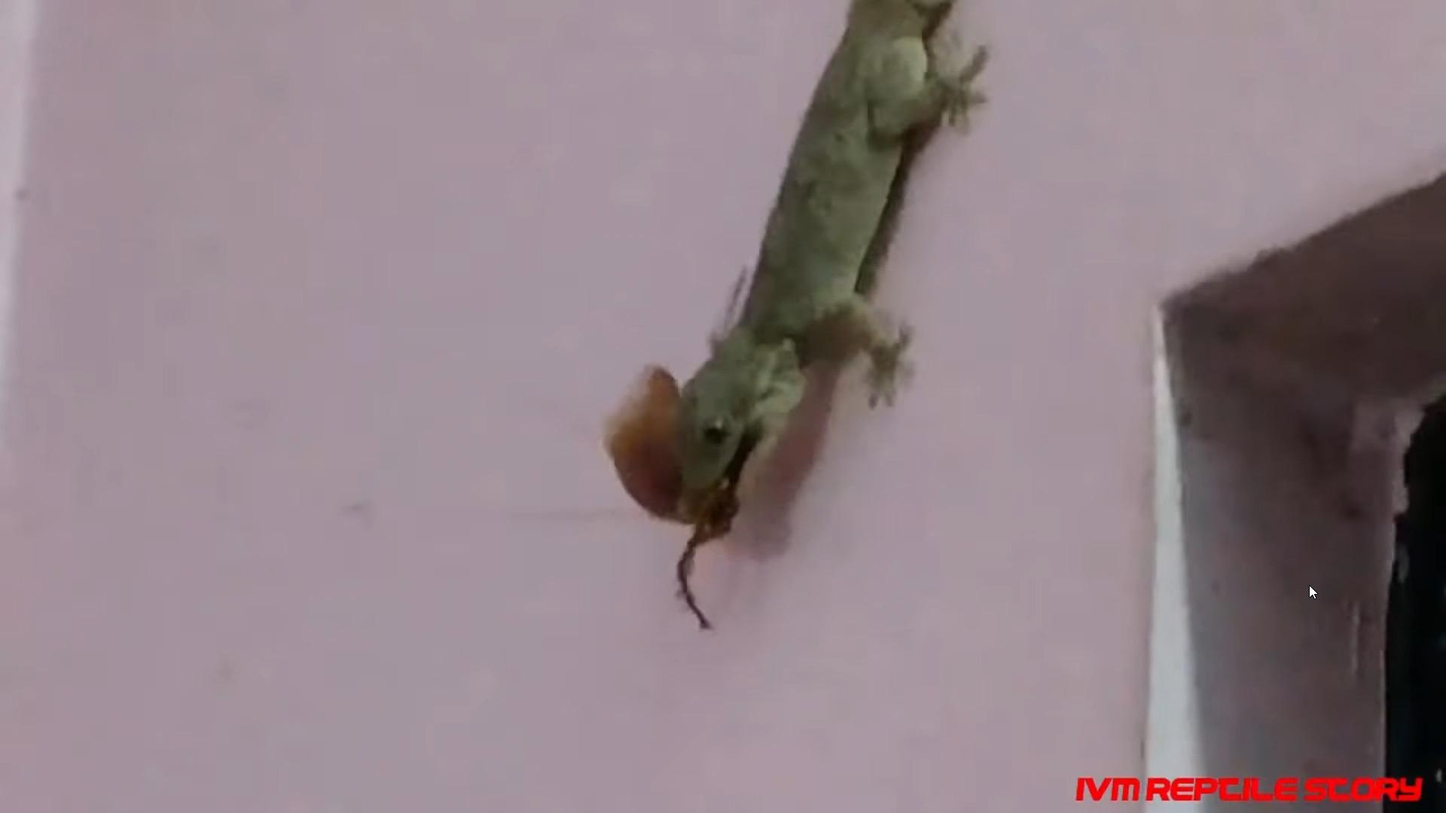cockroach: (603, 367, 733, 559)
lizard: (689, 26, 923, 475)
